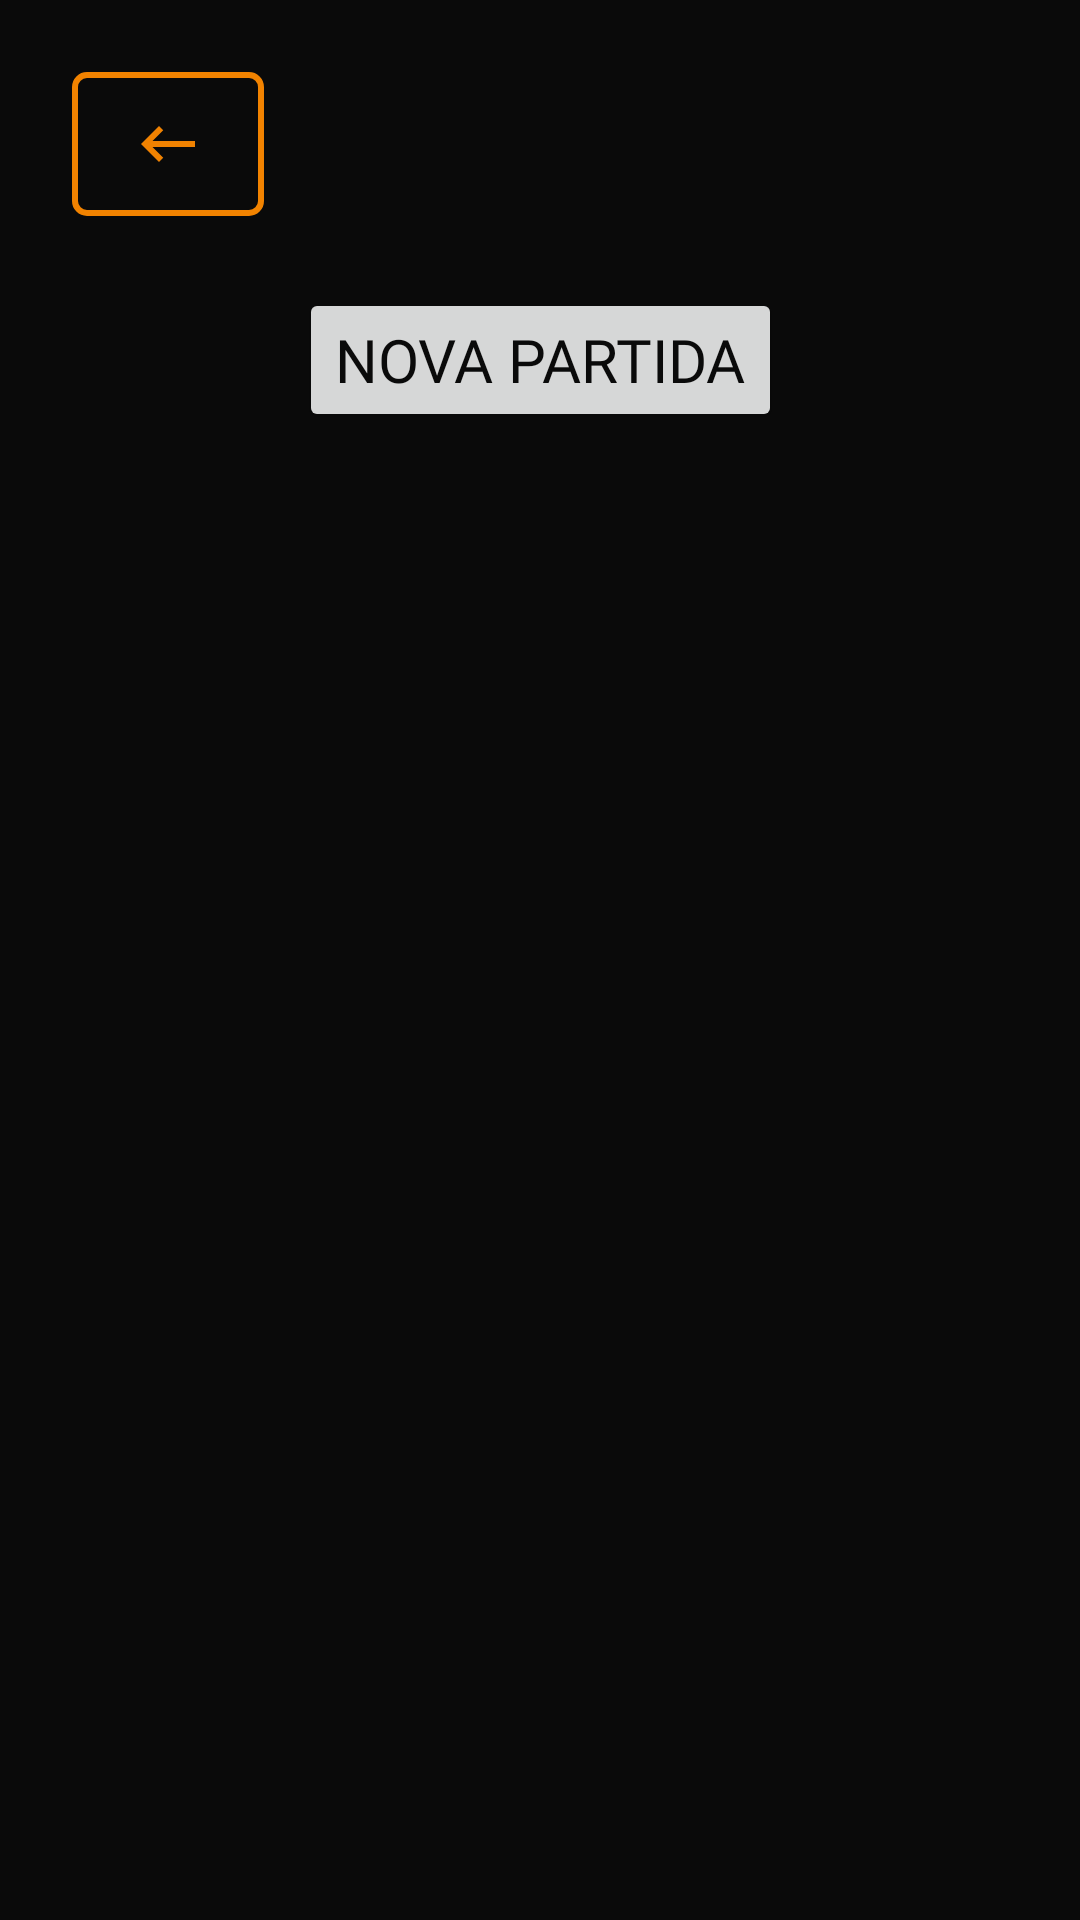

Icons on this 1080 x 1920 Android screen, each with the point to tap as (x,y):
keyboard backspace: (168,144)
